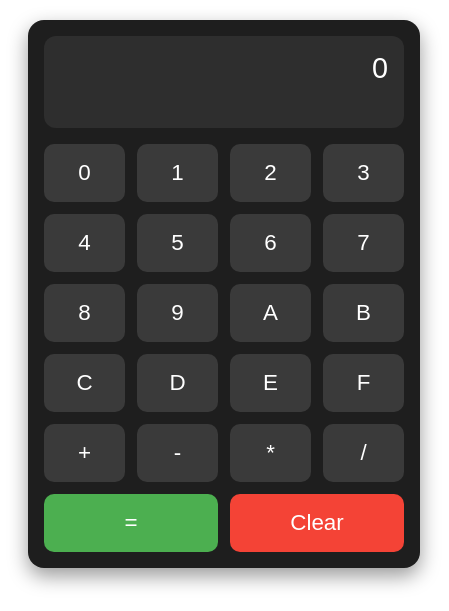
Hex Calculator GUI › calculates and shows result
Click the button "A" at coordinates (270, 313), box [230,284,311,342]
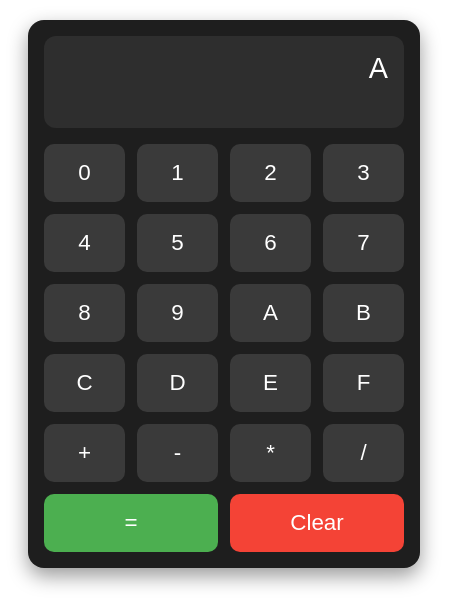
Click the button "+" at coordinates (84, 453), box [44,424,125,482]
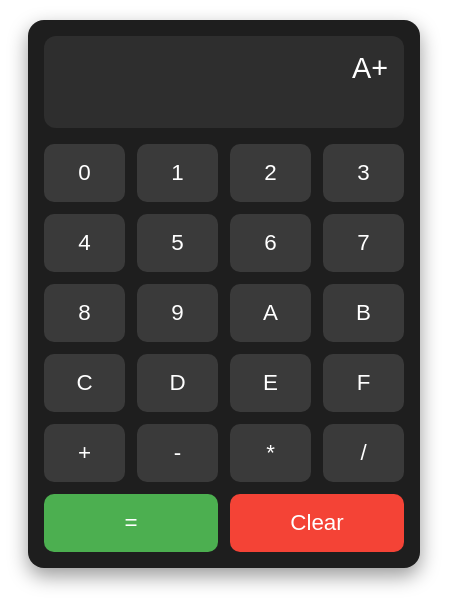
Click the button "5" at coordinates (178, 243), box [137,214,218,272]
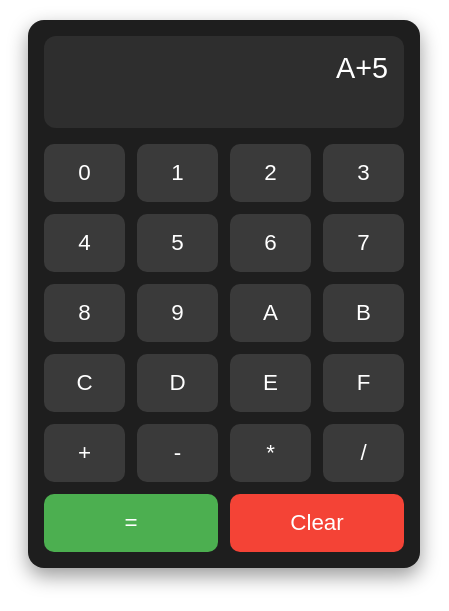
Click the button "=" at coordinates (131, 523), box [44,494,218,552]
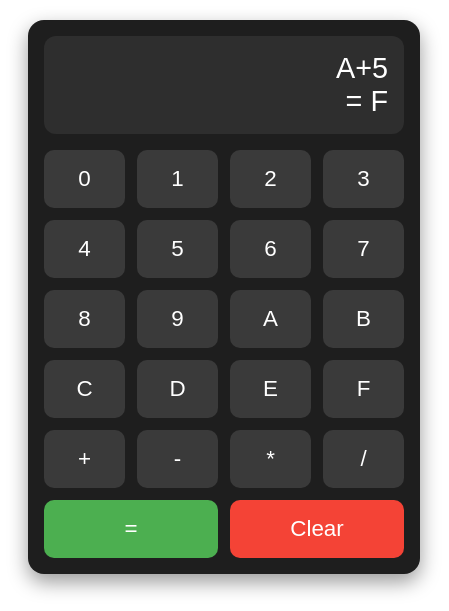
Check: the text "= F" is shown, box [346,85,388,117]
